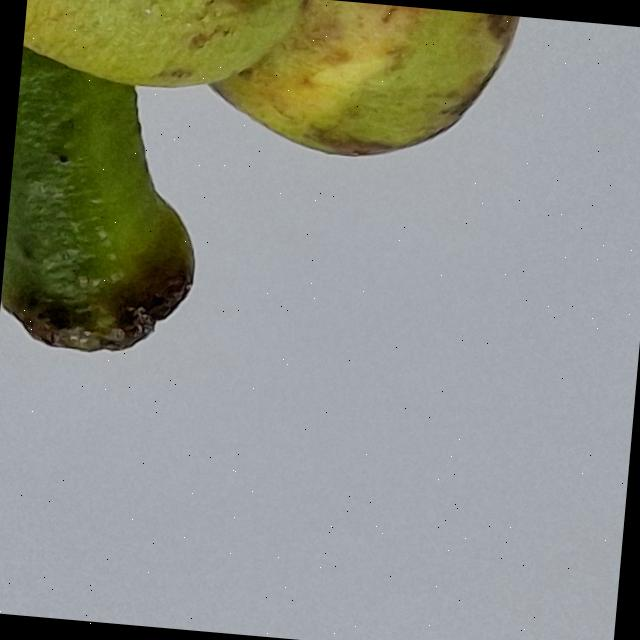mangosteen: (0, 0, 640, 372)
